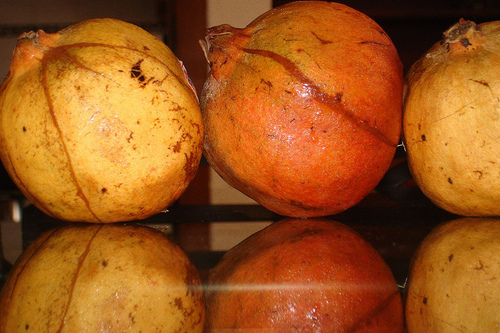pomogranate: (197, 0, 403, 215), (1, 16, 206, 225), (203, 217, 404, 332), (402, 15, 499, 220)
